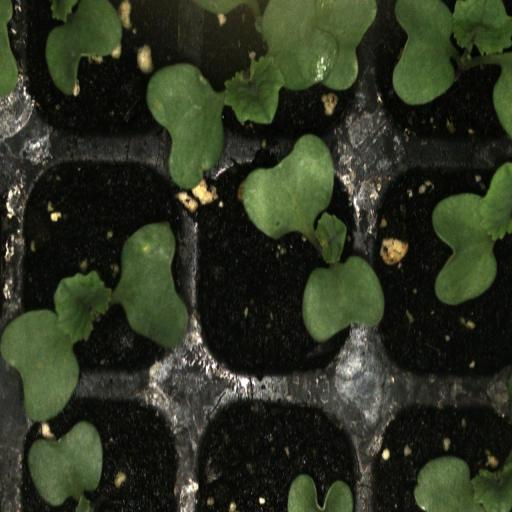seedling: (11, 150, 194, 384), (194, 147, 367, 387), (369, 0, 512, 146)
twoseedling: (196, 0, 362, 149)
